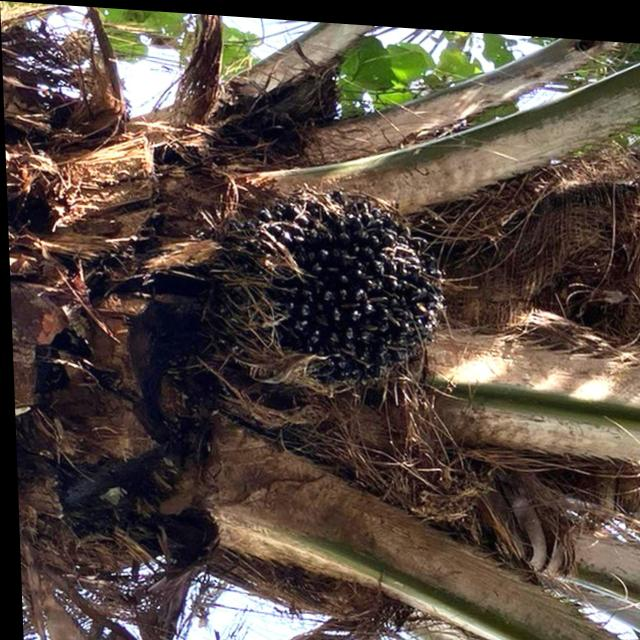unripe: (217, 178, 446, 381)
